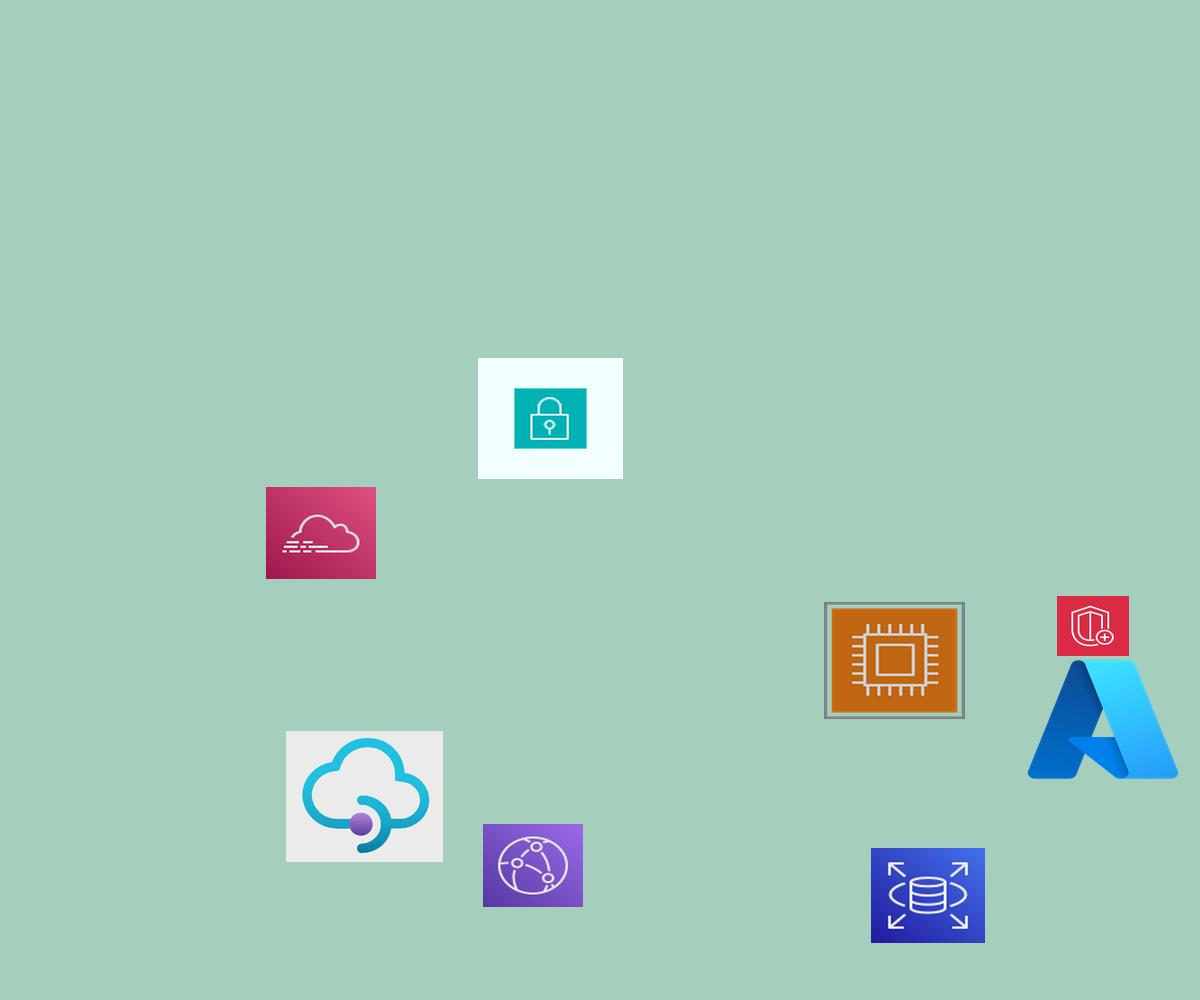AWS-Category_Compute: (824, 602, 965, 719)
AWS-CloudFront: (483, 824, 583, 907)
AWS-CloudTrail: (266, 487, 376, 579)
AWS-Private-subnet: (478, 358, 623, 479)
AWS-RDS: (871, 848, 985, 943)
AWS-Shield: (1057, 596, 1129, 656)
Azure_api_gateway: (286, 731, 443, 862)
Azure_services: (1021, 651, 1185, 788)
